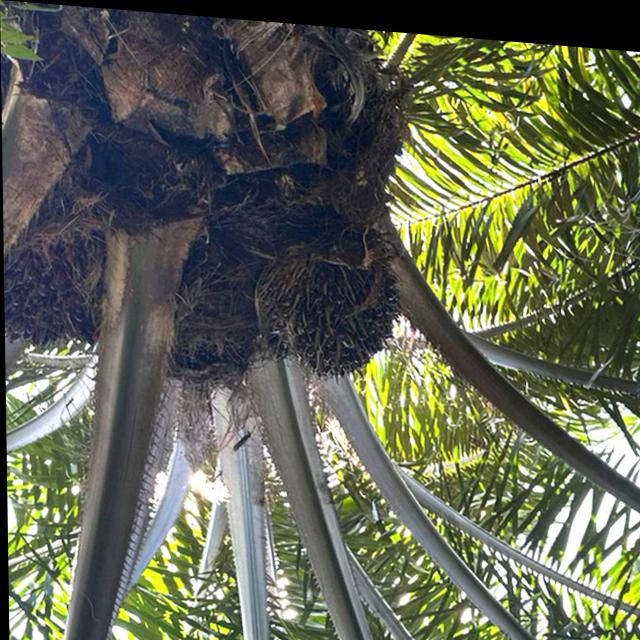unripe: (253, 202, 405, 388)
